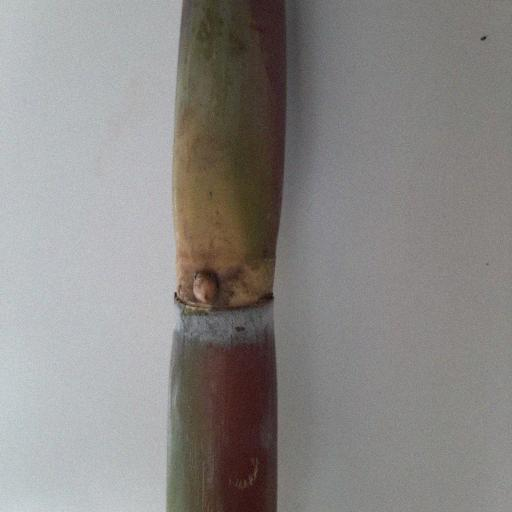Bud: (190, 267, 218, 307)
